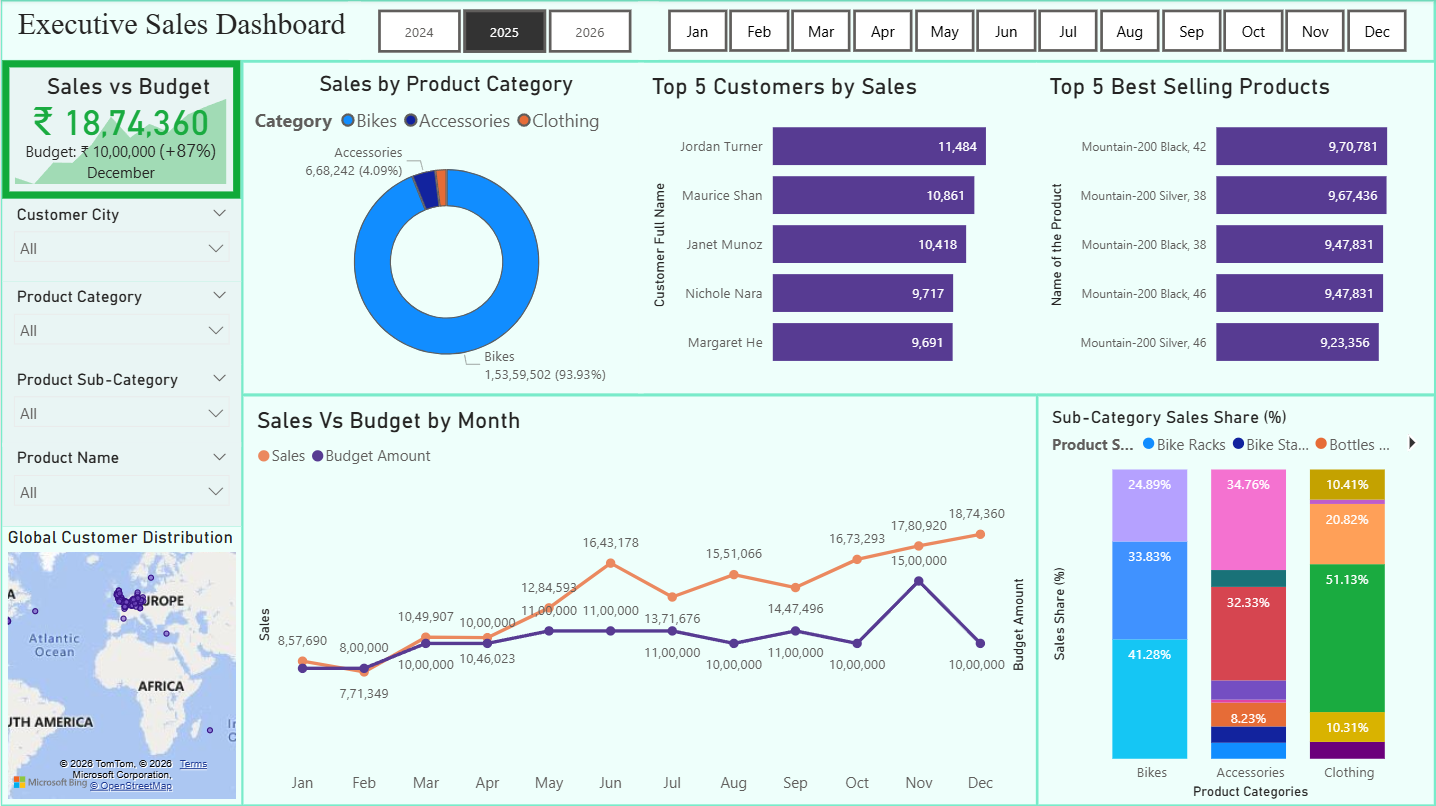

The dashboard page shown, as its layout file describes it:
{"tool":"powerbi","page":{"name":"Page 1","canvas":[1280,720],"ordinal":0},"visuals":[{"type":"textbox","box":[1.1,2.2,319.5,52.3],"z":0},{"type":"slicer","fields":{"Values":["Dim_Product.Product Category"]},"box":[1.2,251.2,212.8,73.3],"z":1000},{"type":"slicer","fields":{"Values":["Dim_Calender.Year"]},"box":[309.5,2.2,276.1,52.3],"z":2000},{"type":"slicer","fields":{"Values":["Dim_Calender.MonthShort"]},"box":[568.2,2.4,708.2,51.9],"z":3000},{"type":"kpi","title":"Sales vs Budget","fields":{"Goal":["Sum(Budget.Budget)"],"TrendLine":["Dim_Calender.Month"],"Indicator":["Fact_Internet_Sales.Sales"]},"box":[1.2,54.3,212.3,123.1],"z":4000},{"type":"donutChart","fields":{"Category":["Dim_Product.Product Category"],"Y":["KeyMeasures.Sales"]},"box":[216,56.7,355.9,294.4],"z":5000},{"type":"lineChart","title":"Sales Vs Budget by Month","fields":{"Category":["Dim_Calender.MonthShort"],"Y":["KeyMeasures.Sales"],"Y2":["KeyMeasures.Budget Amount"]},"box":[216,353.5,705.8,363.1],"z":6000},{"type":"clusteredBarChart","title":"Top 5 Customers by Sales","fields":{"Category":["Dim_Customer.Full Name"],"Y":["KeyMeasures.Sales"]},"box":[568.2,56.7,354.7,294.4],"z":7000},{"type":"clusteredBarChart","title":"Top 5 Best Selling Products ","fields":{"Y":["KeyMeasures.Sales"],"Category":["Dim_Product.Product Name"]},"box":[921.7,56.7,354.7,294.4],"z":8000},{"type":"hundredPercentStackedColumnChart","title":"Sub-Category Sales Share (%)","fields":{"Category":["Dim_Product.Product Category"],"Series":["Dim_Product.Product Sub-Category"],"Y":["KeyMeasures.Sales"]},"box":[924.1,353.5,352.3,363.1],"z":9000},{"type":"map","title":"Global Customer Distribution","fields":{"Category":["Dim_Customer.Customer City"]},"box":[1.1,469.8,212.6,247.1],"z":10000},{"type":"slicer","fields":{"Values":["Dim_Product.Product Sub-Category"]},"box":[1.1,325,212.6,73.5],"z":11000},{"type":"slicer","fields":{"Values":["Dim_Product.Product Name"]},"box":[1.1,395.2,212.6,74.6],"z":12000},{"type":"slicer","fields":{"Values":["Dim_Customer.Customer City"]},"box":[1.2,177.9,212.8,73.3],"z":13000}]}

Visuals, with their boxes in screenshot pixels (x1, y1, x2, y2), scaled from the page's 1280x720 canvas onto the 1436x806 screenshot:
textbox: l=1, t=2, r=360, b=61
slicer - Dim_Product.Product Category: l=1, t=281, r=240, b=363
slicer - Dim_Calender.Year: l=347, t=2, r=657, b=61
slicer - Dim_Calender.MonthShort: l=637, t=3, r=1432, b=61
"Sales vs Budget" kpi: l=1, t=61, r=240, b=199
donutChart - Dim_Product.Product Category x KeyMeasures.Sales: l=242, t=63, r=642, b=393
"Sales Vs Budget by Month" lineChart: l=242, t=396, r=1034, b=802
"Top 5 Customers by Sales" clusteredBarChart: l=637, t=63, r=1035, b=393
"Top 5 Best Selling Products " clusteredBarChart: l=1034, t=63, r=1432, b=393
"Sub-Category Sales Share (%)" hundredPercentStackedColumnChart: l=1037, t=396, r=1432, b=802
"Global Customer Distribution" map: l=1, t=526, r=240, b=803
slicer - Dim_Product.Product Sub-Category: l=1, t=364, r=240, b=446
slicer - Dim_Product.Product Name: l=1, t=442, r=240, b=526
slicer - Dim_Customer.Customer City: l=1, t=199, r=240, b=281
